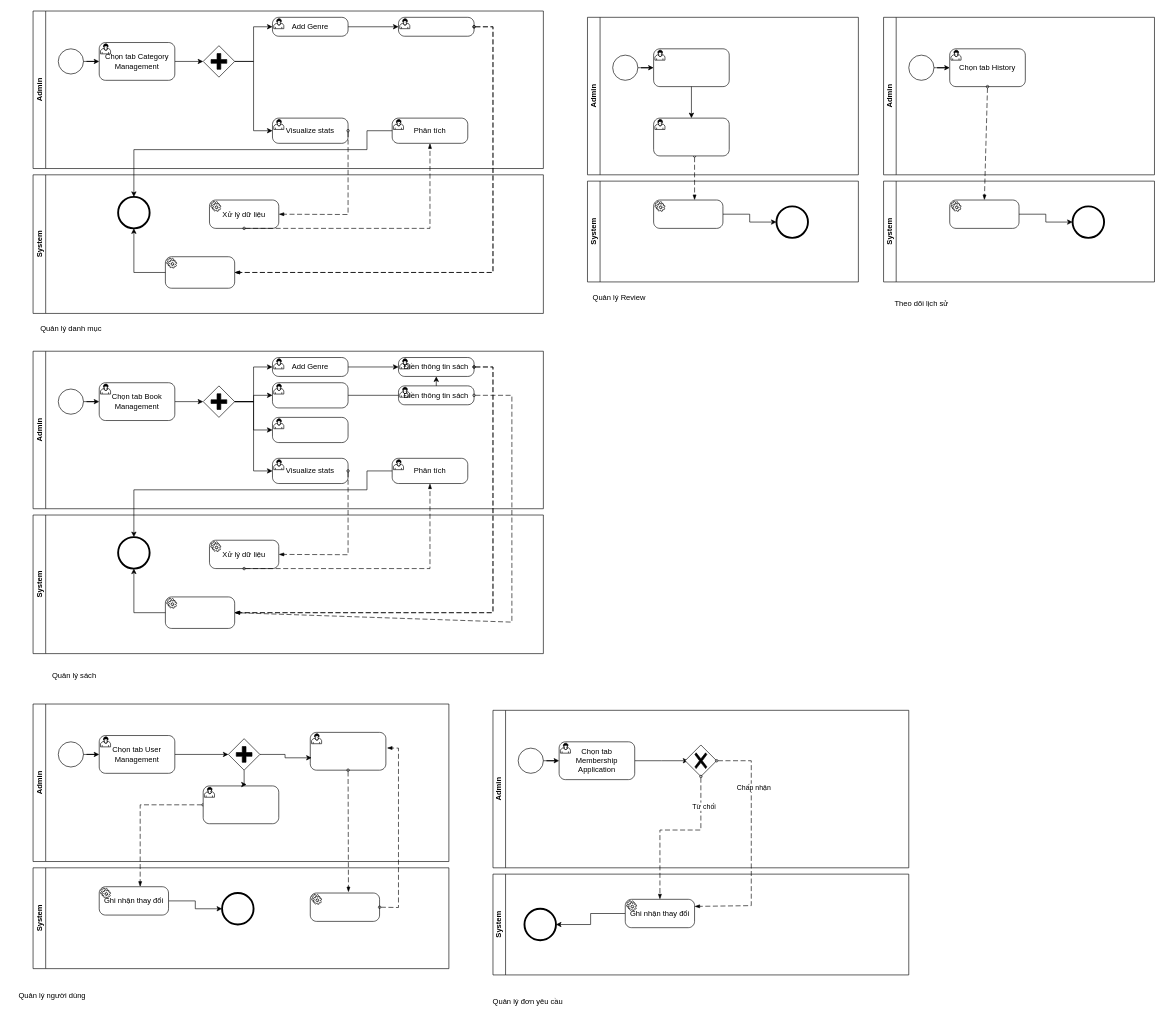
Some shapes in this 1166 by 1022 pixel diagram are drawn without their labels. The shapes that lost their labels are listed below. From the top down, each one's centre as x and y in pixels, then its label:
At (x=436, y=26): "Điền genre mới".
At (x=691, y=67): "Chọn review không đúng chuẩn mực".
At (x=691, y=136): "Lý do xóa".
At (x=688, y=213): "Xóa review và báo cho người dùng".
At (x=984, y=213): "Hiển thị lịch sử".
At (x=200, y=272): "Cập nhật".
At (x=310, y=395): "Modify Book".
At (x=310, y=430): "Remove Book".
At (x=200, y=612): "Ghi nhận cập nhật, thông báo cho người dùng".
At (x=348, y=751): "View User".
At (x=241, y=804): "Remove User".
At (x=345, y=906): "Nhận yêu cầu".
